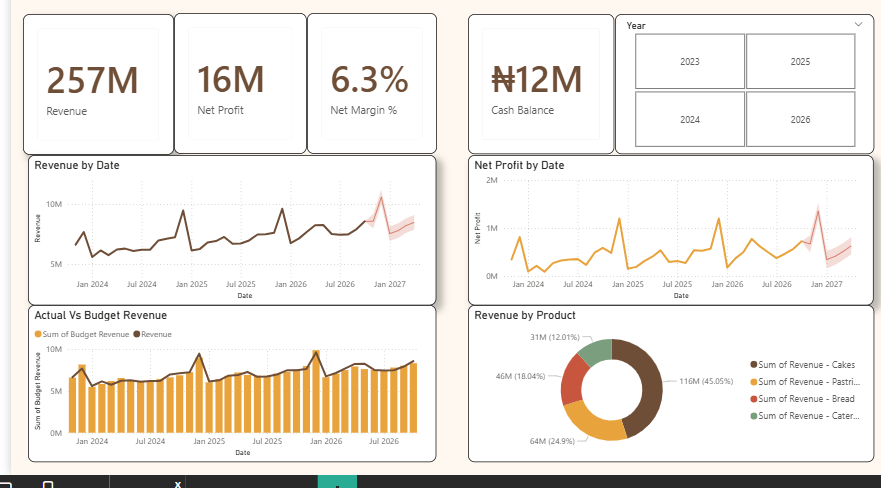

The page's visual inventory and layout, read from the dashboard file:
{"tool":"powerbi","page":{"name":"Page 1","canvas":[1280,720],"ordinal":0},"visuals":[{"type":"cardVisual","fields":{"Data":["Income_Statement.Revenue"]},"box":[17.6,42.6,221.9,207.2],"z":0},{"type":"cardVisual","fields":{"Data":["Balance_Sheet.Net Profit"]},"box":[239.5,41.1,195.4,207.2],"z":1000},{"type":"cardVisual","fields":{"Data":["Balance_Sheet.Net Margin %"]},"box":[434.9,41.1,191,207.2],"z":2000},{"type":"cardVisual","fields":{"Data":["Balance_Sheet.Cash Balance"]},"box":[672.2,43.3,215.1,206.1],"z":3000},{"type":"lineChart","fields":{"Y":["Income_Statement.Revenue"],"Category":["DimMonth.Date"]},"box":[25.4,249.5,600.5,221.1],"z":4000},{"type":"lineChart","fields":{"Y":["Balance_Sheet.Net Profit"],"Category":["DimMonth.Date"]},"box":[672.2,249.5,596,221.1],"z":5000},{"type":"lineClusteredColumnComboChart","title":"Actual Vs Budget Revenue","fields":{"Category":["DimMonth.Date"],"Y":["Sum(Budget.Budget Revenue)"],"Y2":["Income_Statement.Revenue"]},"box":[25,470.2,599.5,230.7],"z":6000},{"type":"donutChart","title":"Revenue by Product","fields":{"Y":["Sum(Income_Statement.Revenue - Cakes)","Sum(Income_Statement.Revenue - Pastries)","Sum(Income_Statement.Revenue - Bread)","Sum(Income_Statement.Revenue - Catering)"]},"box":[671.5,470.2,596.6,230.7],"z":7000},{"type":"slicer","fields":{"Values":["DimMonth.Year"]},"box":[887,43,381,206],"z":8000}]}

Visuals, with their boxes in screenshot pixels (x1, y1, x2, y2):
cardVisual - Income_Statement.Revenue: <box>15,9,168,153</box>
cardVisual - Balance_Sheet.Net Profit: <box>168,8,304,152</box>
cardVisual - Balance_Sheet.Net Margin %: <box>304,8,437,152</box>
cardVisual - Balance_Sheet.Cash Balance: <box>469,9,618,152</box>
lineChart - Income_Statement.Revenue x DimMonth.Date: <box>20,152,437,306</box>
lineChart - Balance_Sheet.Net Profit x DimMonth.Date: <box>469,152,880,306</box>
"Actual Vs Budget Revenue" lineClusteredColumnComboChart: <box>20,306,436,466</box>
"Revenue by Product" donutChart: <box>468,306,880,466</box>
slicer - DimMonth.Year: <box>618,9,880,152</box>
